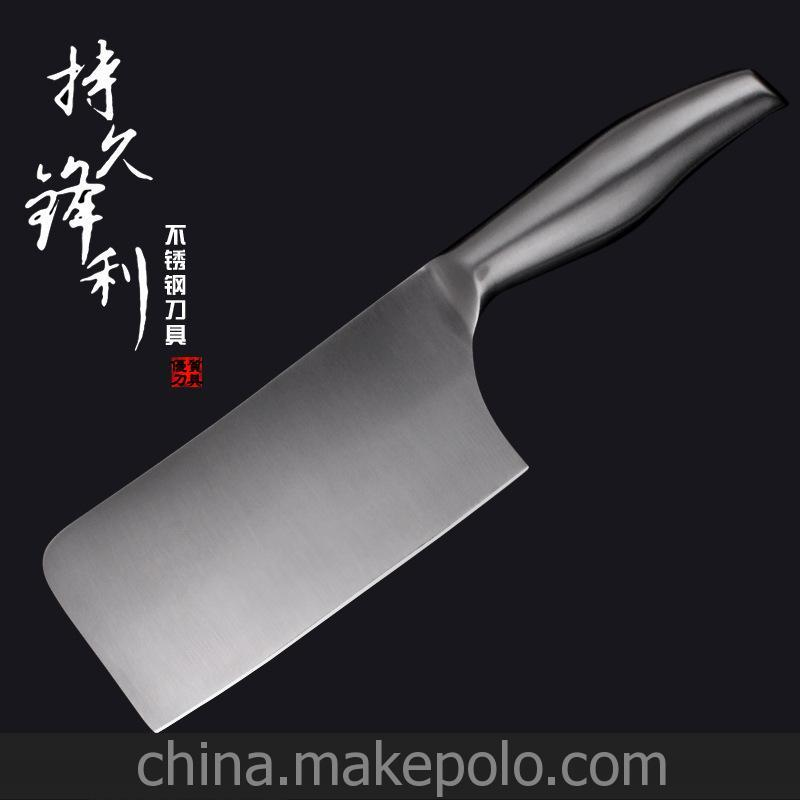knief: (107, 68, 742, 742)
